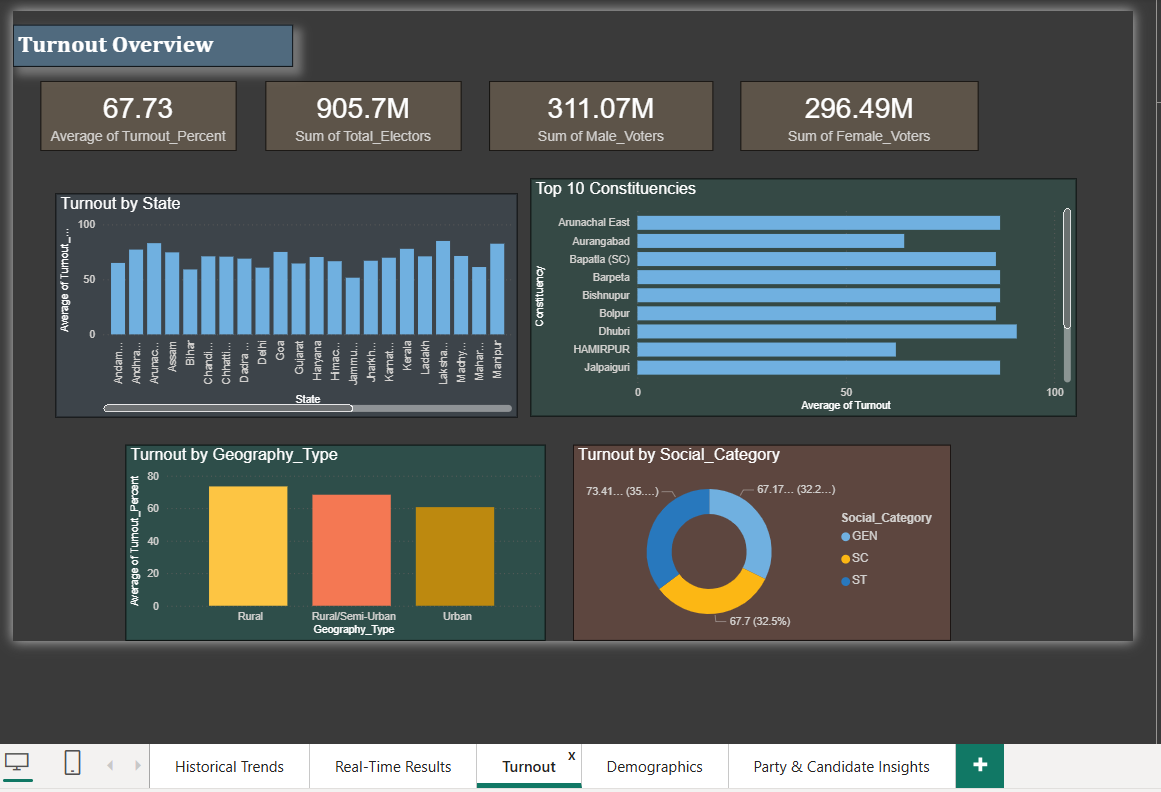

What the dashboard file says about the page in this screenshot:
{"tool":"powerbi","page":{"name":"Turnout ","canvas":[1280,720],"ordinal":2},"visuals":[{"type":"columnChart","title":"Turnout by State","fields":{"Category":["States.State"],"Y":["Avg(Indian_Election_Dataset.Turnout_Percent)"]},"box":[48,208,528,256],"z":0},{"type":"clusteredBarChart","title":"Top 10 Constituencies","fields":{"Category":["StatewiseResults.Constituency"],"Y":["Avg(Indian_Election_Dataset.Turnout_Percent)"]},"box":[592,192,624,272],"z":1000},{"type":"clusteredColumnChart","title":"Turnout by Geography_Type","fields":{"Category":["Indian_Election_Dataset.Geography_Type"],"Y":["Avg(Indian_Election_Dataset.Turnout_Percent)"]},"box":[128,496,480,224],"z":2000},{"type":"donutChart","title":" Turnout by Social_Category","fields":{"Category":["Indian_Election_Dataset.Social_Category"],"Y":["Avg(Indian_Election_Dataset.Turnout_Percent)"]},"box":[640,496,432,224],"z":3000},{"type":"textbox","box":[0,16,320,48],"z":4000},{"type":"card","fields":{"Values":["Avg(Indian_Election_Dataset.Turnout_Percent)"]},"box":[32,80,224,80],"z":5000},{"type":"card","fields":{"Values":["Sum(Indian_Election_Dataset.Total_Electors)"]},"box":[288,80,224,80],"z":6000},{"type":"card","fields":{"Values":["Sum(Indian_Election_Dataset.Male_Voters)"]},"box":[544,80,256,80],"z":7000},{"type":"card","fields":{"Values":["Sum(Indian_Election_Dataset.Female_Voters)"]},"box":[832,80,272,80],"z":8000}]}

Visuals, with their boxes on the page's 1280x720 design canvas (x1, y1, x2, y2). These are canvas units, not pixel positions in the 1161x792 screenshot, which may show the page scaled, cropped or inside an application window:
"Turnout by State" columnChart: bbox=(48, 208, 576, 464)
"Top 10 Constituencies" clusteredBarChart: bbox=(592, 192, 1216, 464)
"Turnout by Geography_Type" clusteredColumnChart: bbox=(128, 496, 608, 720)
" Turnout by Social_Category" donutChart: bbox=(640, 496, 1072, 720)
textbox: bbox=(0, 16, 320, 64)
card - Avg(Indian_Election_Dataset.Turnout_Percent): bbox=(32, 80, 256, 160)
card - Sum(Indian_Election_Dataset.Total_Electors): bbox=(288, 80, 512, 160)
card - Sum(Indian_Election_Dataset.Male_Voters): bbox=(544, 80, 800, 160)
card - Sum(Indian_Election_Dataset.Female_Voters): bbox=(832, 80, 1104, 160)
